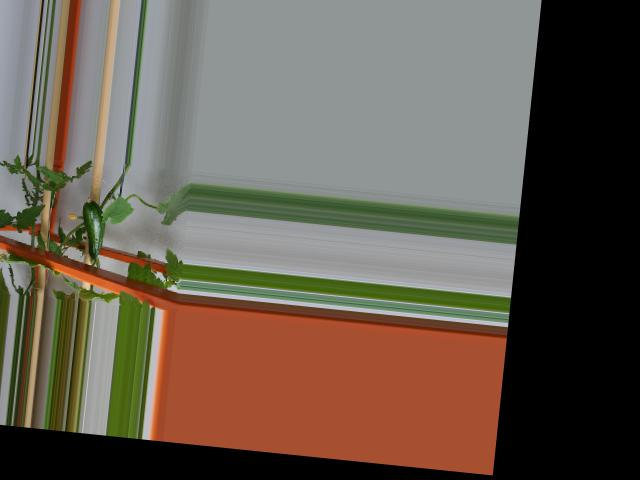cucumber: (77, 195, 107, 257)
